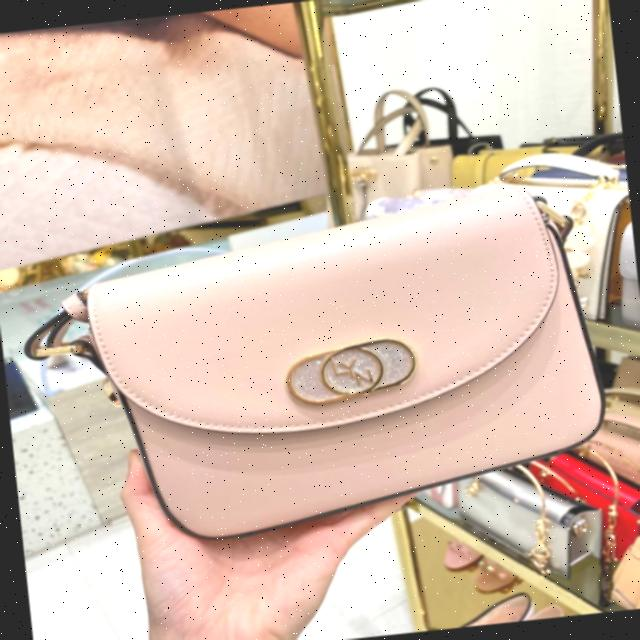Handbag: (39, 174, 624, 559)
